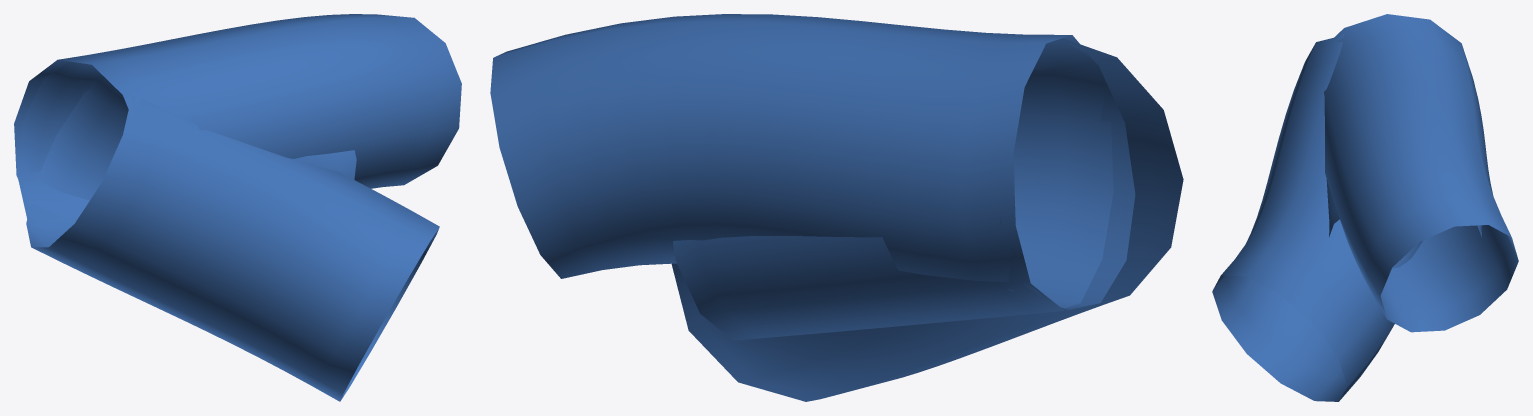
3 renders of one model, left to right at view 1: azimuth 30°, elevation 25°; view 2: azimuth 150°, elevation 25°; view 3: azimuth 270°, elevation 25°, orthographic. The views are drawn at different scales.
Parts seen in each view (by area): view 1: 左肺上静脉; view 2: 左肺上静脉; view 3: 左肺上静脉.
Boxes of the visible parts, bbox=[...] form: 左肺上静脉: bbox=[14, 14, 461, 401]; 左肺上静脉: bbox=[490, 14, 1183, 401]; 左肺上静脉: bbox=[1212, 14, 1518, 401].
Size of the model in its own units: 0.0258 by 0.0193 by 0.0181.
